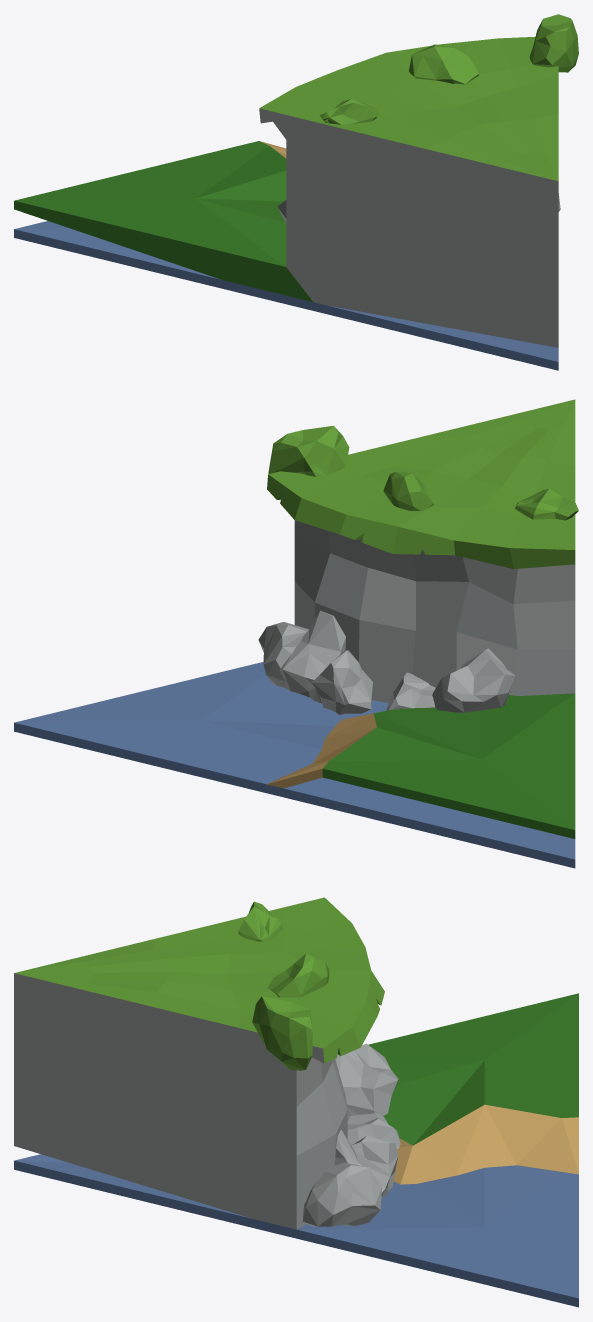
File: tile10.glb
The picture shows the model from 3 angles, top to bottom: view 1: azimuth 30°, elevation 25°; view 2: azimuth 150°, elevation 25°; view 3: azimuth 270°, elevation 25°; orthographic projection. The views are drawn at different scales.
Parts seen in each view (by area): view 1: hill8.002, ground.009, water4.003, bush2.005, bush1.005, bush3.005; view 2: hill8.002, water4.003, ground.009, rock1.003, bush2.005, rock4.003, rock5.003, rock0.015, bush1.005, bush3.005, rock3.003; view 3: hill8.002, ground.009, water4.003, rock0.015, bush2.005, rock1.003, bush1.005, rock5.003, rock3.003, bush3.005, rock4.003.
Boxes of the visible parts, x1=… form: hill8.002: x1=259, y1=36, x2=558, y2=347; ground.009: x1=14, y1=141, x2=312, y2=309; water4.003: x1=14, y1=221, x2=558, y2=370; bush2.005: x1=529, y1=14, x2=578, y2=72; bush1.005: x1=409, y1=44, x2=478, y2=84; bush3.005: x1=319, y1=98, x2=378, y2=124; hill8.002: x1=267, y1=399, x2=575, y2=703; water4.003: x1=14, y1=662, x2=575, y2=868; ground.009: x1=266, y1=693, x2=575, y2=838; rock1.003: x1=432, y1=648, x2=514, y2=712; bush2.005: x1=268, y1=425, x2=349, y2=476; rock4.003: x1=279, y1=610, x2=345, y2=703; rock5.003: x1=312, y1=650, x2=372, y2=714; rock0.015: x1=258, y1=622, x2=308, y2=687; bush1.005: x1=383, y1=472, x2=433, y2=511; bush3.005: x1=515, y1=488, x2=578, y2=520; rock3.003: x1=386, y1=672, x2=435, y2=710; hill8.002: x1=14, y1=897, x2=384, y2=1229; ground.009: x1=368, y1=993, x2=578, y2=1184; water4.003: x1=14, y1=1154, x2=578, y2=1307; rock0.015: x1=303, y1=1162, x2=382, y2=1226; bush2.005: x1=252, y1=996, x2=312, y2=1070; rock1.003: x1=335, y1=1043, x2=398, y2=1116; bush1.005: x1=268, y1=953, x2=329, y2=997; rock5.003: x1=352, y1=1135, x2=398, y2=1196; rock3.003: x1=347, y1=1112, x2=400, y2=1149; bush3.005: x1=238, y1=901, x2=282, y2=941; rock4.003: x1=335, y1=1130, x2=389, y2=1195.
Size of the model in its own units: 1 by 0.4128 by 0.866.
